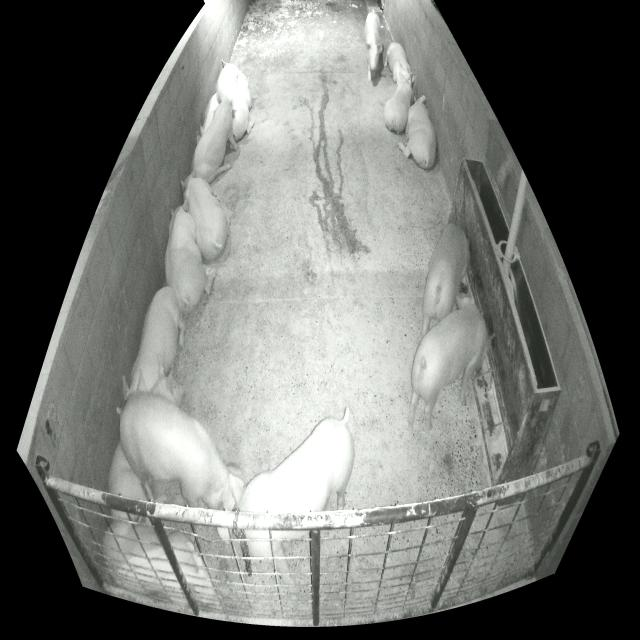pig: (229, 407, 354, 583), (116, 393, 241, 511), (110, 363, 184, 521), (103, 519, 215, 609), (408, 305, 486, 430), (122, 287, 185, 399), (422, 223, 468, 338), (165, 199, 206, 311), (190, 86, 236, 183), (180, 170, 228, 260), (217, 60, 254, 141), (397, 95, 436, 169), (384, 72, 414, 133), (364, 9, 382, 82), (384, 42, 411, 86), (200, 94, 218, 134)
